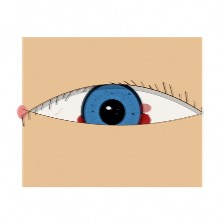hemorrhage_spot: (63, 80, 164, 160)
